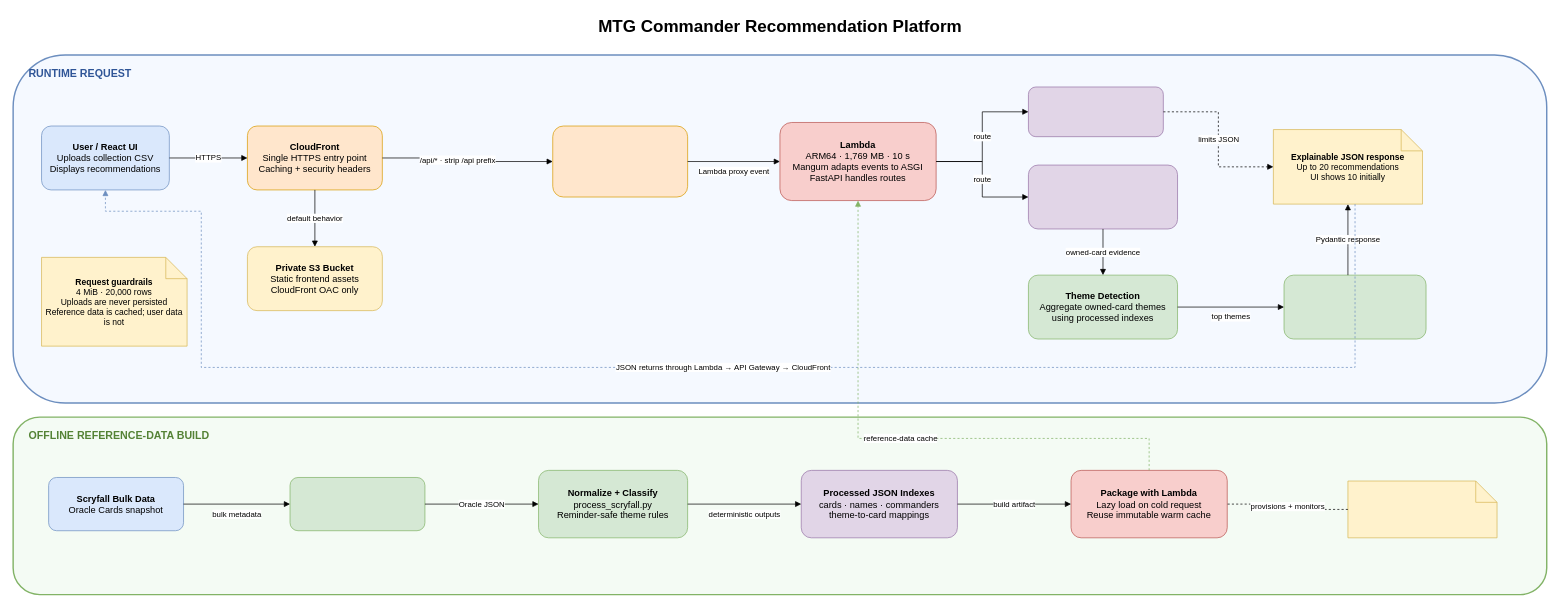
Some shapes in this 1559 by 607 pixel diagram are drawn without their labels. Each missing label, with the centre of its shape:
API Gateway GET /config POST /recommendations 10 req/s, burst 20: the point at 620,161
Download download_scryfall.py: the point at 357,504
GET /config Returns upload limits: the point at 1095,111
Operational envelope AWS CDK · CloudWatch · SNS alarms: the point at 1422,509
POST /recommendations Validate upload + parse CSV Normalize card names: the point at 1103,196
Score + Rank Themes · colors · support popularity · eligibility gate: the point at 1354,306
